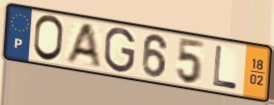5: (175, 36, 206, 86)
6: (140, 34, 170, 80)
A: (62, 23, 103, 68)
G: (103, 26, 137, 74)
L: (211, 44, 238, 92)
O: (31, 14, 65, 64)
